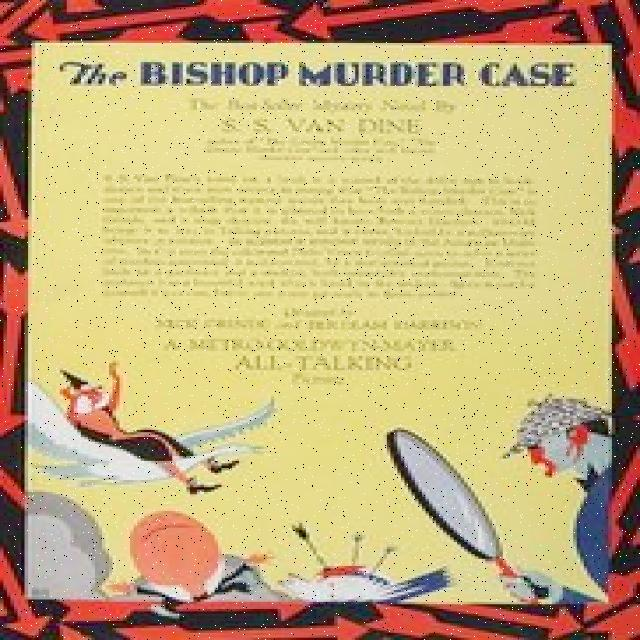movie-judul: (63, 53, 578, 166)
picture: (0, 8, 640, 627)
